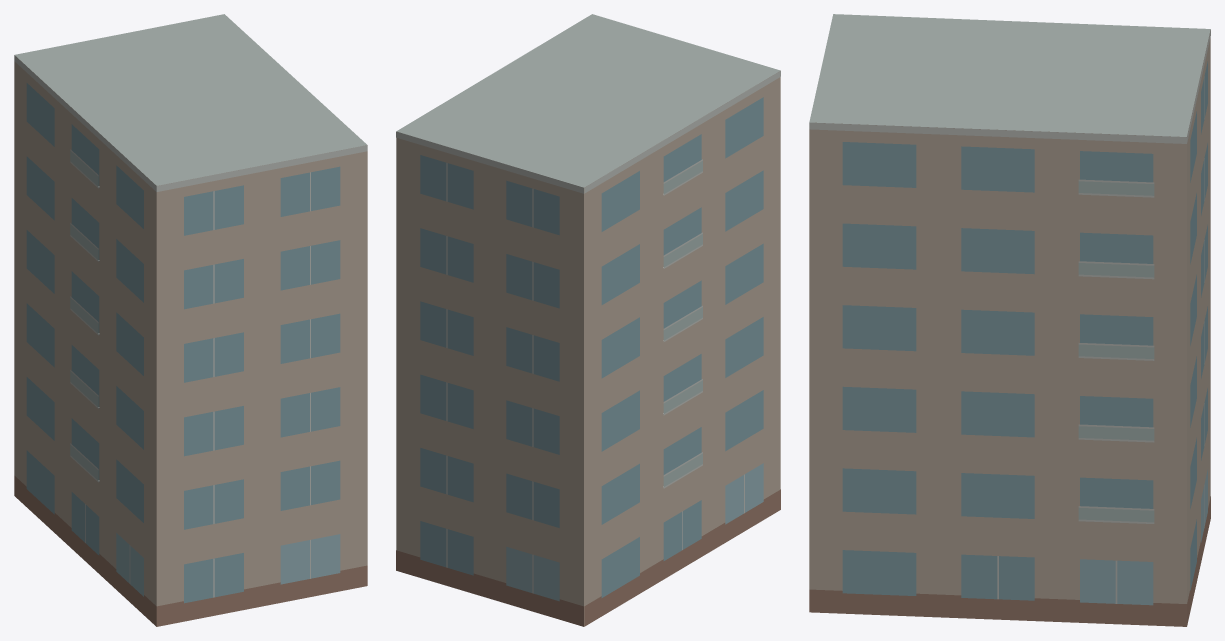
File: survey-upis-32662595.glb
The picture shows the model from 3 angles, left to right: view 1: azimuth 30°, elevation 25°; view 2: azimuth 150°, elevation 25°; view 3: azimuth 270°, elevation 25°; orthographic projection. The views are drawn at different scales.
Visible parts, largest first — view 1: survey-upis-32662595.tmp; view 2: survey-upis-32662595.tmp; view 3: survey-upis-32662595.tmp.
Boxes of the visible parts, x1,y1,x2,y2 form: survey-upis-32662595.tmp: (14, 14, 367, 626); survey-upis-32662595.tmp: (396, 14, 780, 626); survey-upis-32662595.tmp: (809, 14, 1210, 626).
Bounding box in the file's own units: 9.28 × 17.2 × 12.79.
